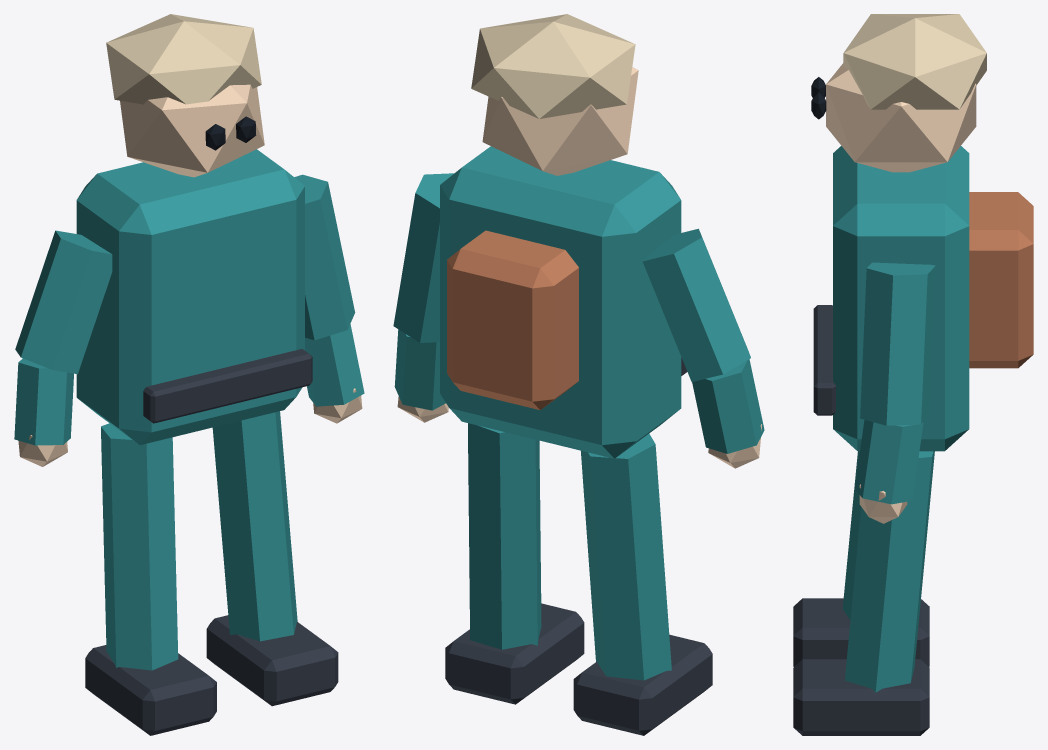
The model's file is npcs_003_seed11.glb.
3 renders of one model, left to right at view 1: azimuth 30°, elevation 25°; view 2: azimuth 150°, elevation 25°; view 3: azimuth 270°, elevation 25°, orthographic. The views are drawn at different scales.
Visible parts, largest first — view 1: npcs_003_seed11; view 2: npcs_003_seed11; view 3: npcs_003_seed11.
Part boxes in pixels (left/top/right/bottom): npcs_003_seed11: left=14, top=14, right=364, bottom=735; npcs_003_seed11: left=393, top=14, right=764, bottom=735; npcs_003_seed11: left=793, top=14, right=1033, bottom=735.
Size of the model in its own units: 0.9243 by 1.68 by 0.5459.
